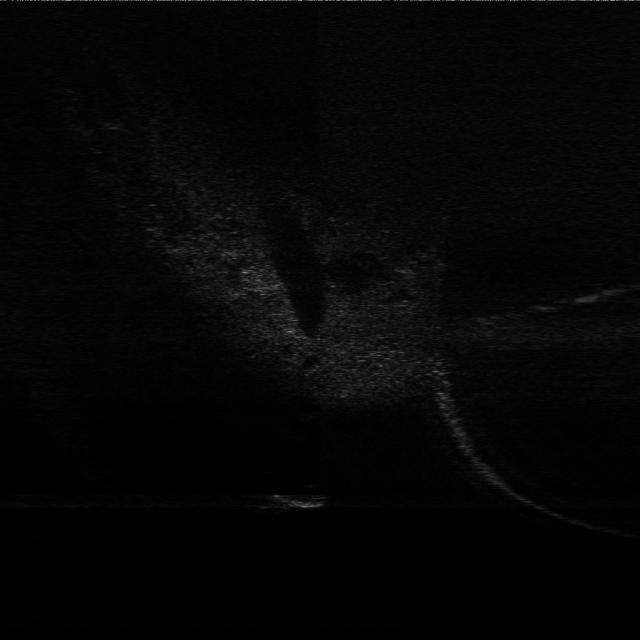square cage: (268, 477, 334, 512)
